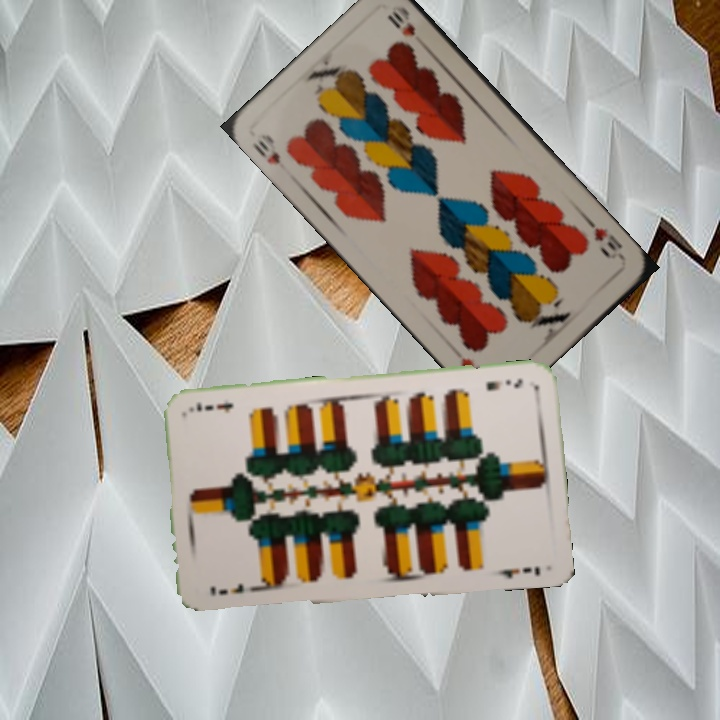E7: (207, 580, 247, 599), (483, 375, 525, 393)
H10: (584, 216, 628, 264), (248, 129, 284, 168)
